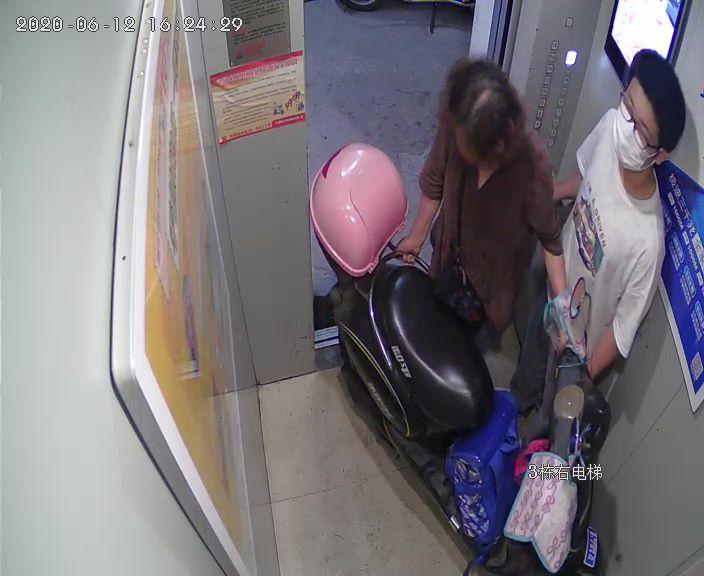Electric-bicycle: (309, 145, 608, 573)
